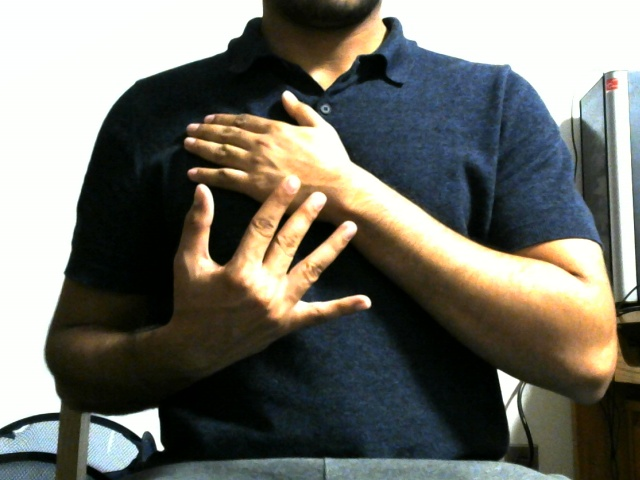blood: (116, 71, 439, 382)
